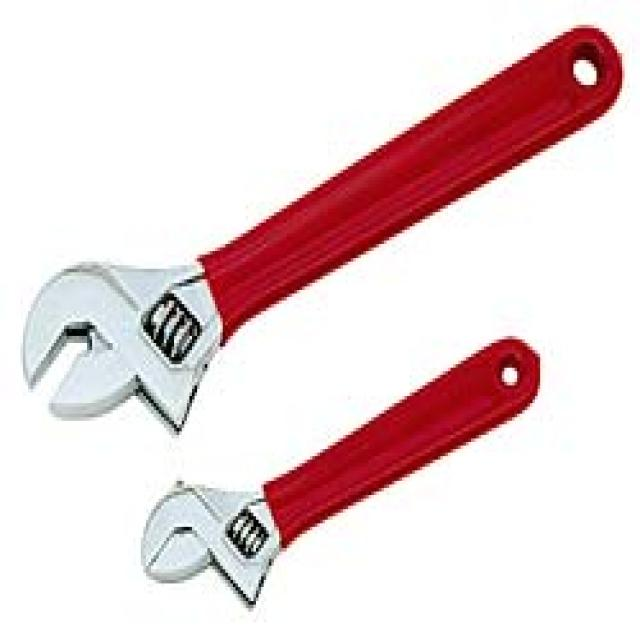wrench: (0, 65, 640, 416), (132, 426, 592, 583)
